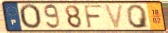8: (64, 4, 83, 30)
9: (44, 3, 62, 30)
F: (83, 4, 104, 29)
O: (18, 4, 43, 31)
Q: (125, 4, 151, 29)
V: (103, 3, 125, 30)
